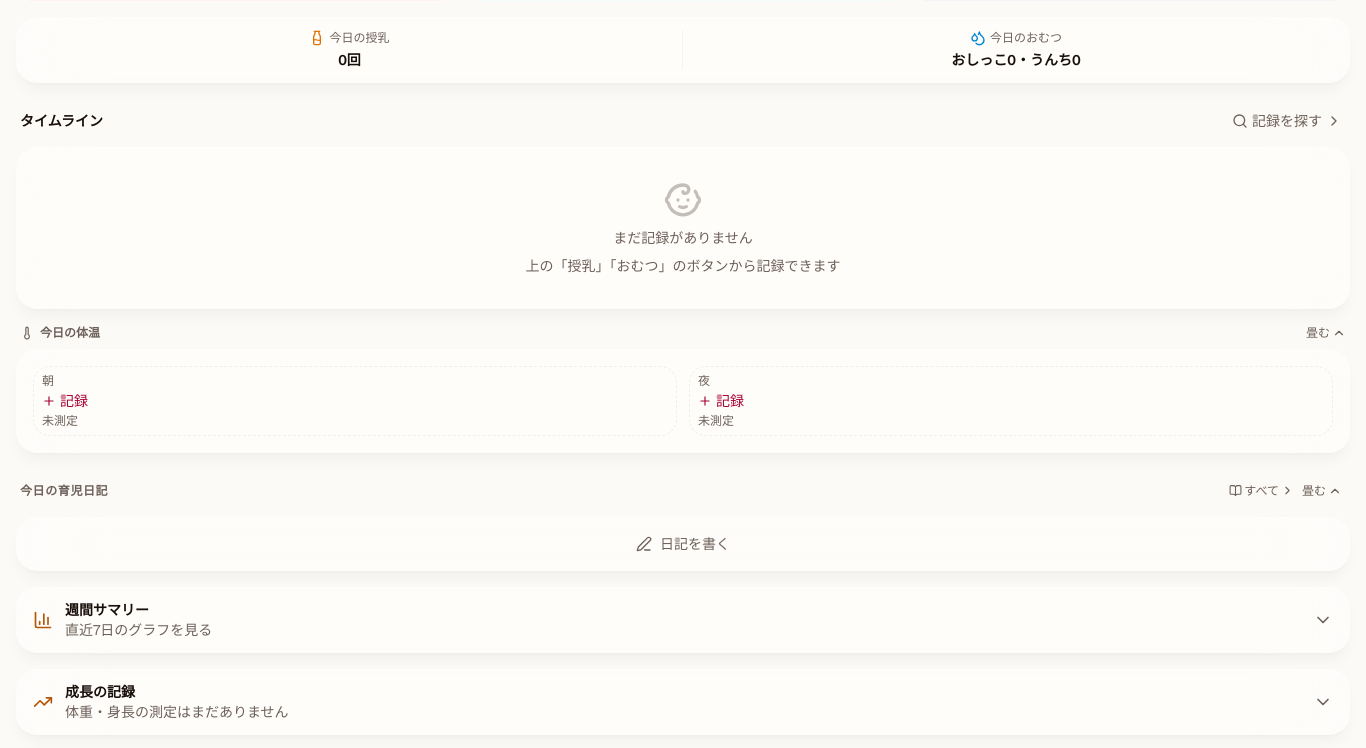
BabyDashboard / 週間サマリー・成長グラフは畳んで置く（必要な時に開く） › 既定は閉じて要約だけを見せ、開くとグラフが見える。閉じた間もグラフは DOM に残る
(page scrolled)
Click the button "週間サマリー 直近7日のグラフを見る". click: point(107, 610)
box: [17,588,1349,652]
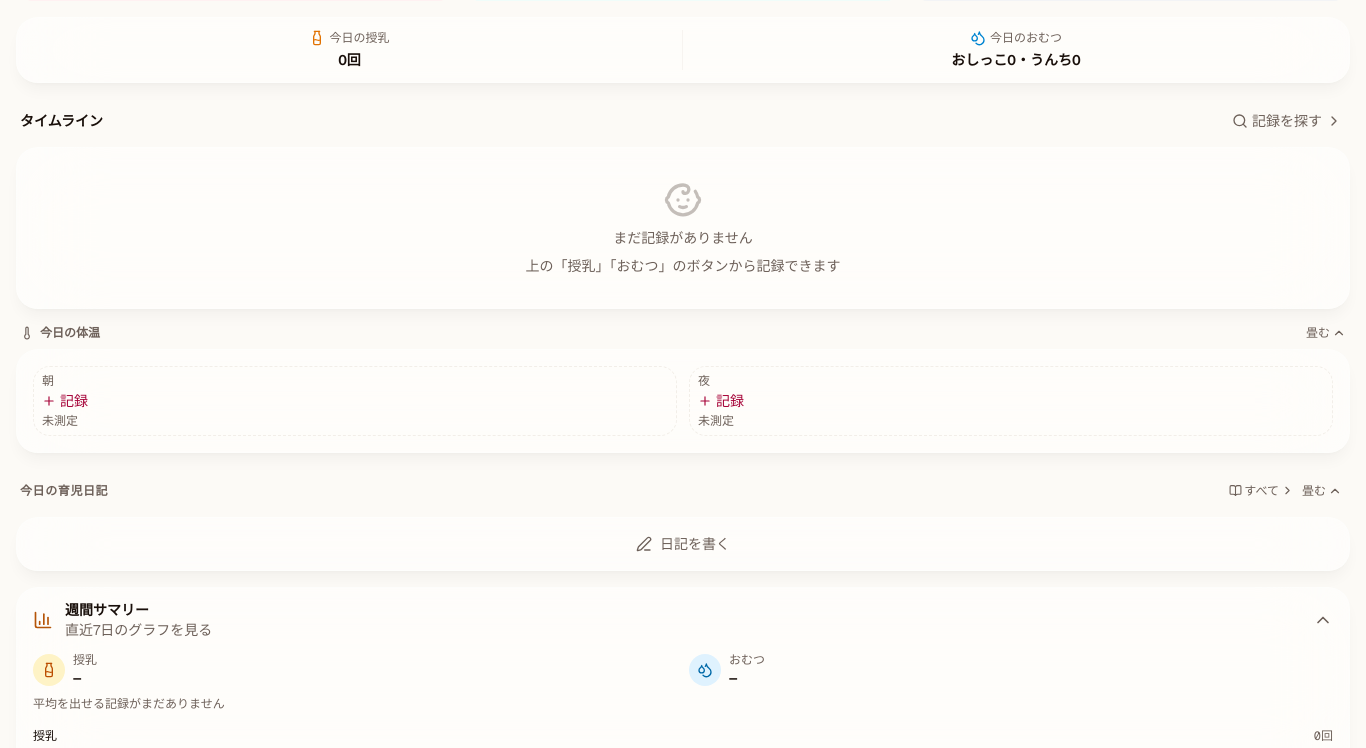
expect the button "週間サマリー 直近7日のグラフを見る" is expanded: met, box [17,588,1349,652]
